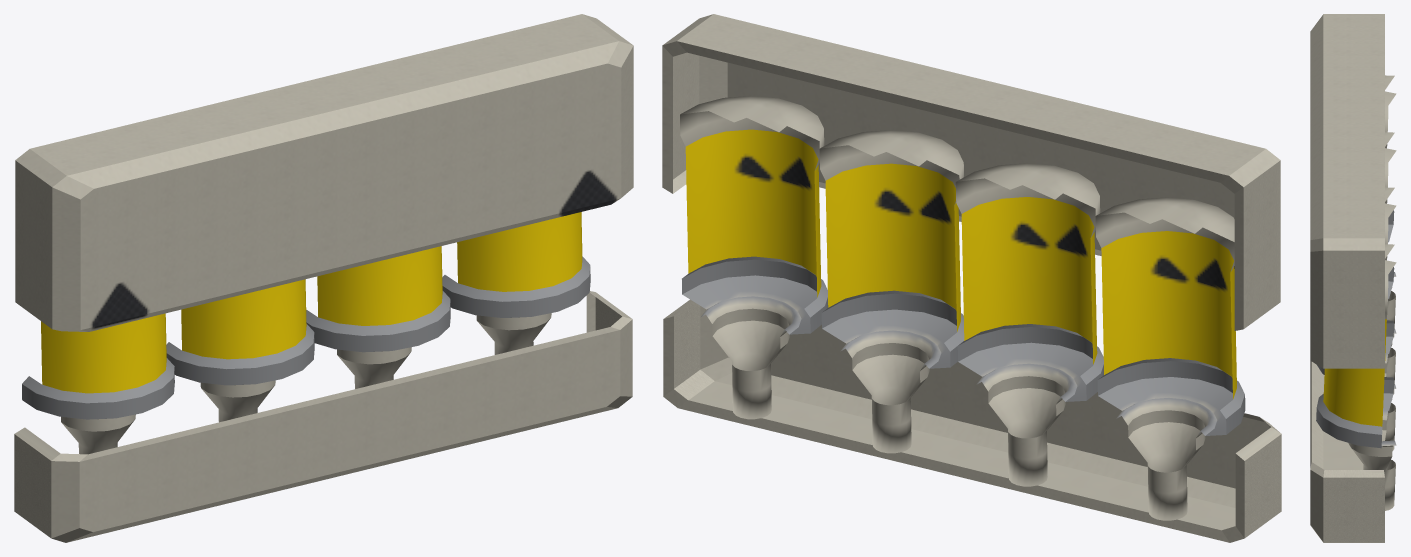
File: Wallbarrels3.fbx
3 renders of one model, left to right at view 1: azimuth 30°, elevation 25°; view 2: azimuth 150°, elevation 25°; view 3: azimuth 270°, elevation 25°, orthographic. The views are drawn at different scales.
Parts seen in each view (by area): view 1: barrels3; view 2: barrels3; view 3: barrels3.
Part boxes in pixels (x1,y1,x2,y2): barrels3: [14, 14, 633, 542]; barrels3: [662, 14, 1281, 542]; barrels3: [1310, 14, 1396, 542].
Bounding box in the file's own units: 80.89 × 48.7 × 12.5.
